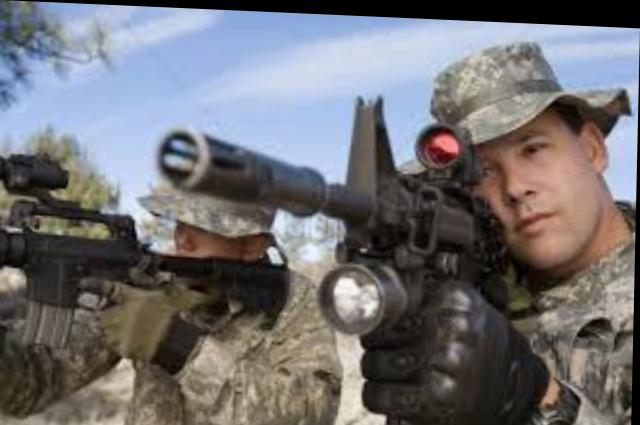other: (390, 32, 639, 424), (125, 195, 332, 424)
